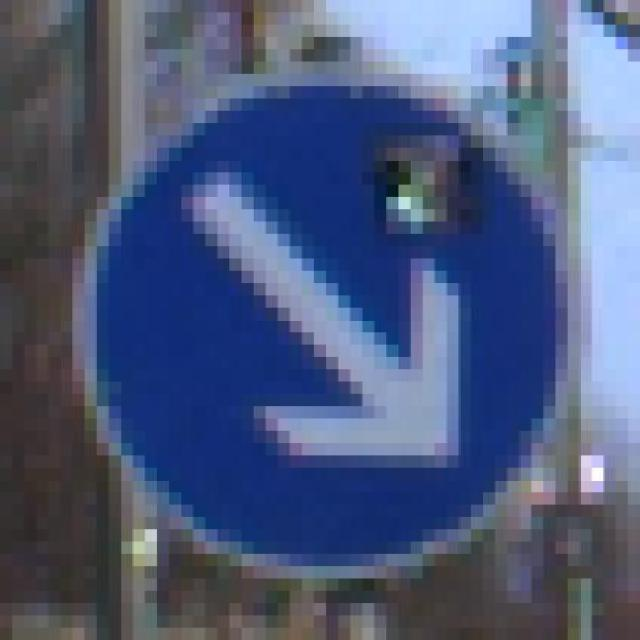Keep-Right: (60, 25, 592, 628)
